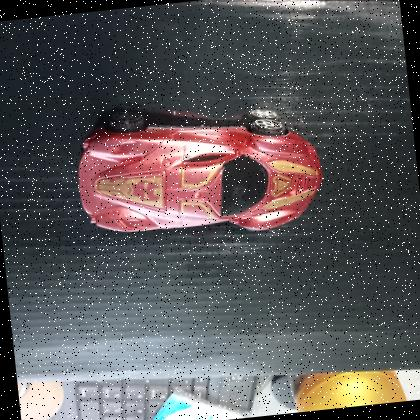Car: (66, 85, 332, 257)
